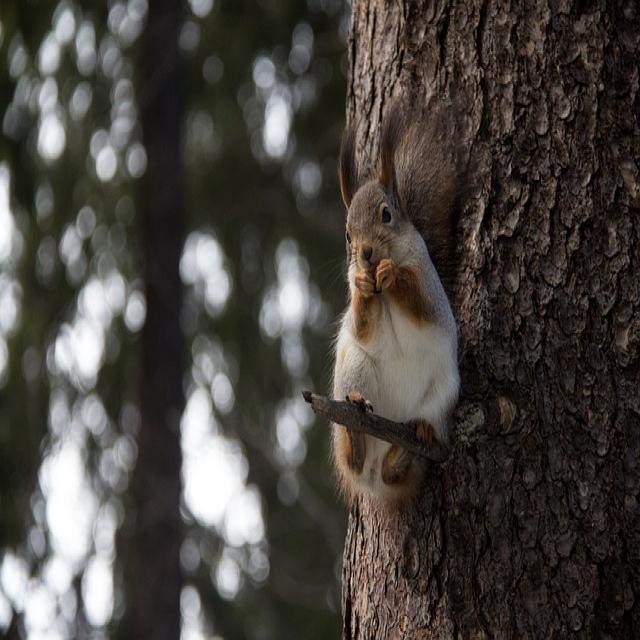Herbivorous: (329, 175, 464, 640)
